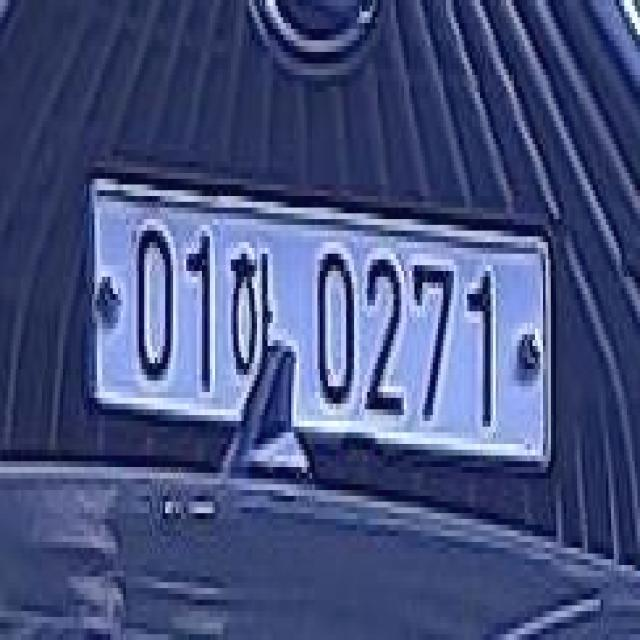illegal_plate: (72, 160, 564, 502)
